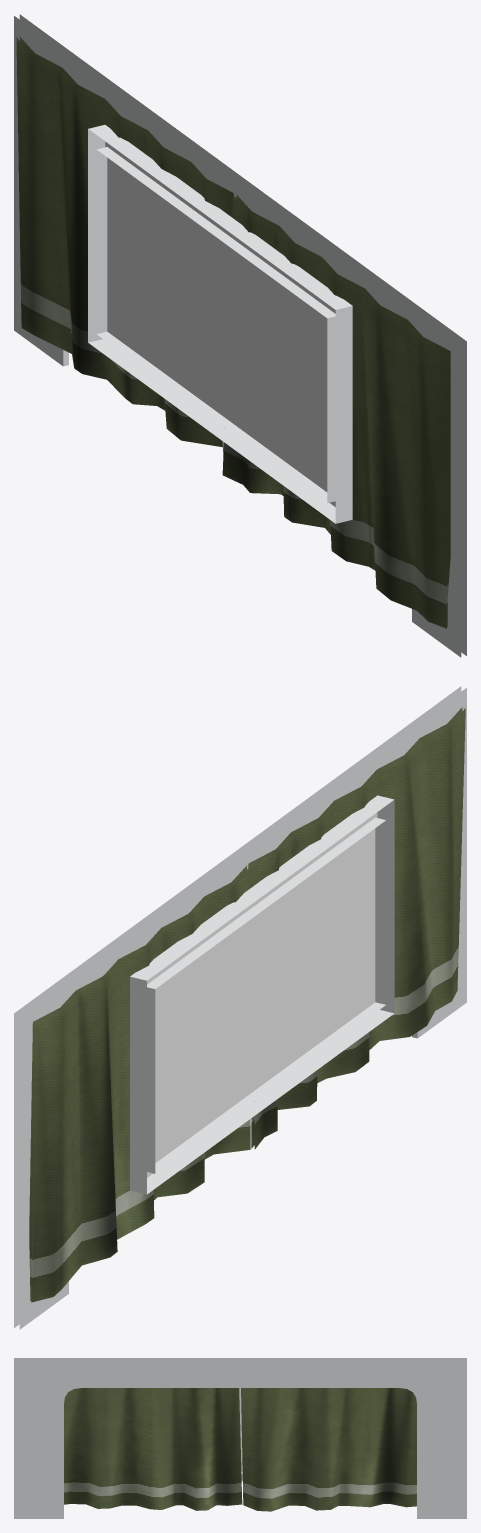
Rendered from M_bedroomchuang01.FBX.
The picture shows the model from 3 angles, top to bottom: view 1: azimuth 30°, elevation 25°; view 2: azimuth 150°, elevation 25°; view 3: azimuth 270°, elevation 25°; orthographic projection. The views are drawn at different scales.
Parts seen in each view (by area): view 1: M_bedroomchuang01_03, M_bedroomchuang01_04, M_bedroomchuang01_02, Box044; view 2: M_bedroomchuang01_03, M_bedroomchuang01_04, M_bedroomchuang01_02, Box044; view 3: M_bedroomchuang01_03, Box044, M_bedroomchuang01_04.
Part boxes in pixels (box(x1,y1,x2,y2)): M_bedroomchuang01_03: box(16, 36, 450, 628); M_bedroomchuang01_04: box(107, 143, 335, 506); M_bedroomchuang01_02: box(88, 125, 352, 523); Box044: box(14, 14, 466, 657); M_bedroomchuang01_03: box(29, 707, 465, 1302); M_bedroomchuang01_04: box(147, 813, 375, 1177); M_bedroomchuang01_02: box(130, 795, 394, 1194); Box044: box(14, 686, 466, 1329); M_bedroomchuang01_03: box(64, 1388, 416, 1511); Box044: box(14, 1358, 466, 1518); M_bedroomchuang01_04: box(239, 1388, 242, 1471).
Bounding box in the file's own units: 0.6295 × 4.17 × 10.73.
